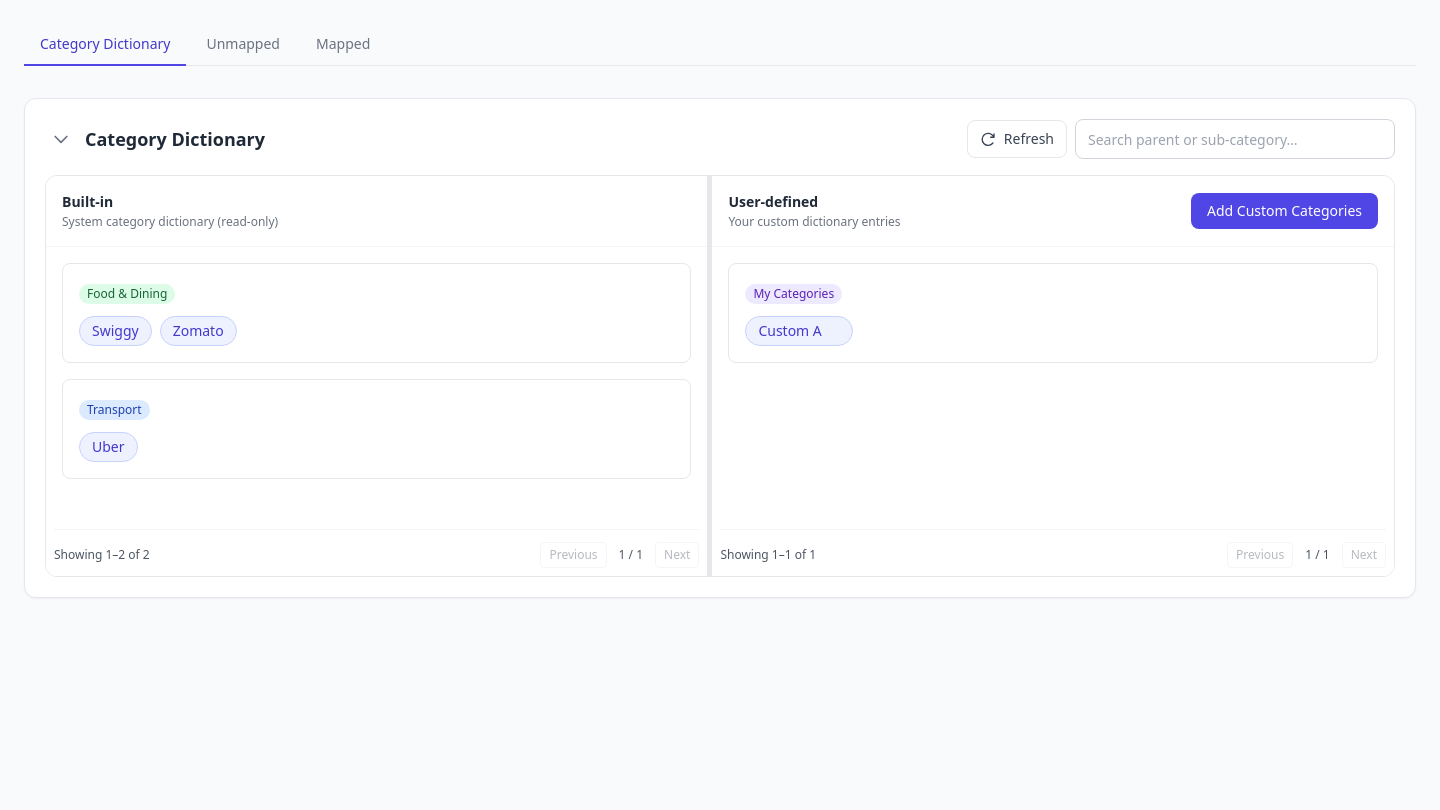
Categories page — Category Dictionary › opens Add Category modal from Add Custom Categories
The width and height of the screenshot is (1440, 810).
Expected: the heading "Category Dictionary" is shown, 85,125 -> 265,153
Click the button "Add Custom Categories": (1284, 211) 1191,193 -> 1378,229
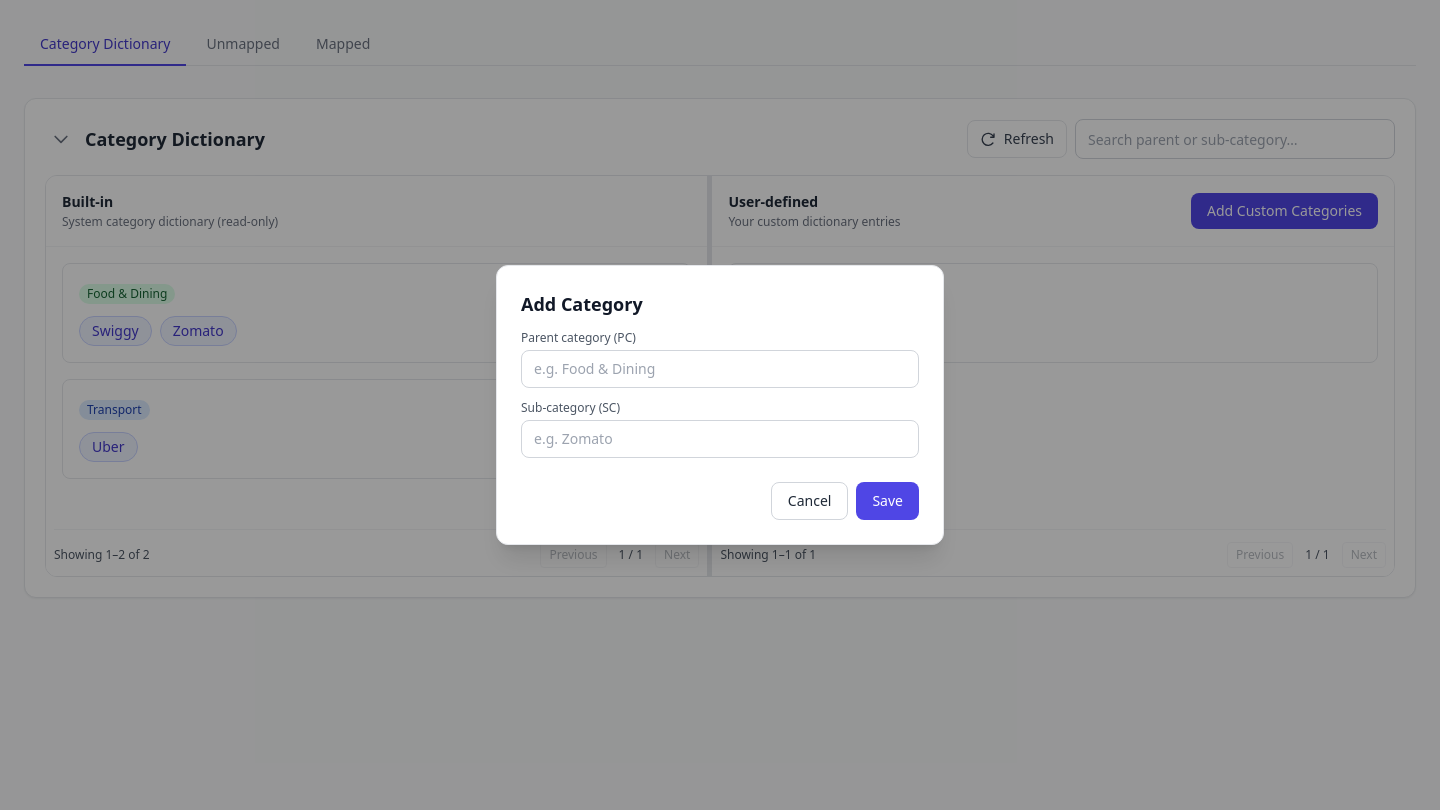
Result: the dialog "Add Category" is shown at 496,265 -> 944,545
